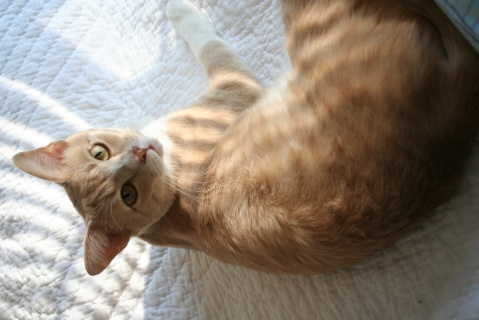Cat: (10, 0, 479, 277)
